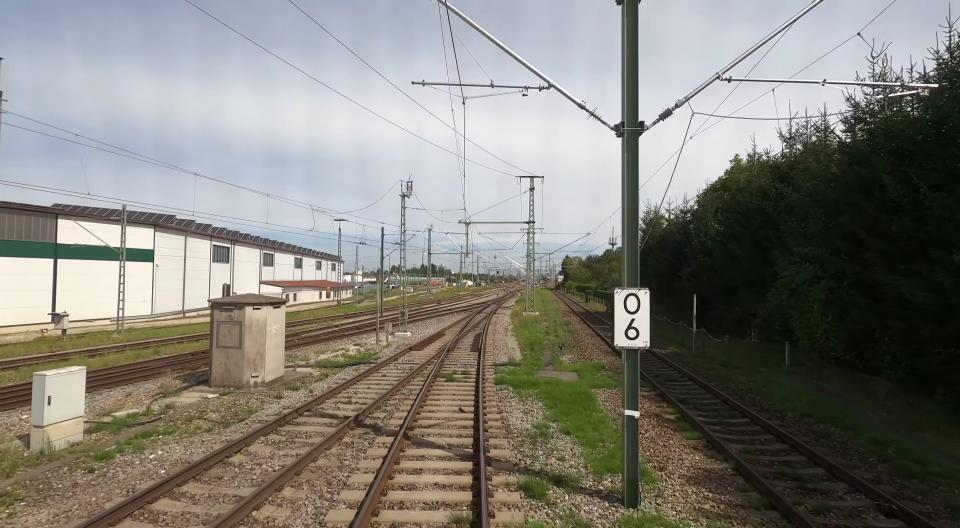Plant: (494, 366, 620, 475), (618, 510, 690, 528), (572, 361, 616, 388), (518, 477, 550, 502), (557, 510, 597, 528), (524, 421, 550, 444), (676, 421, 704, 440), (640, 457, 658, 484), (450, 511, 472, 528), (519, 521, 550, 528), (436, 372, 456, 382), (459, 370, 472, 375)
